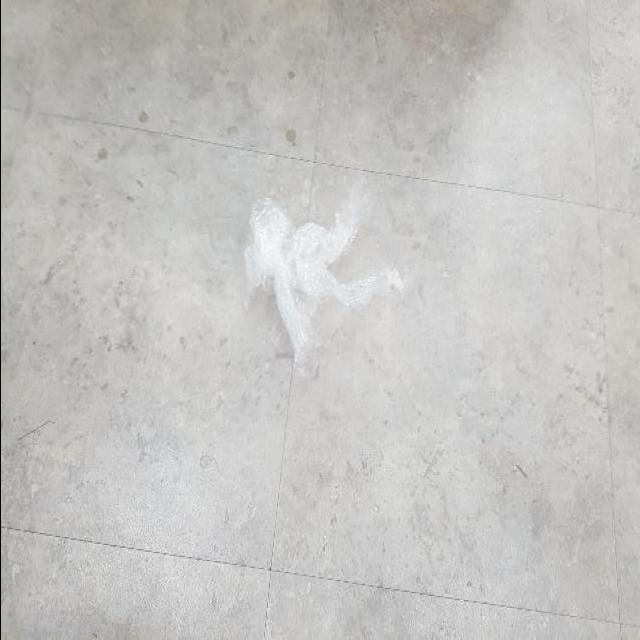plastic bag: (240, 187, 410, 391)
